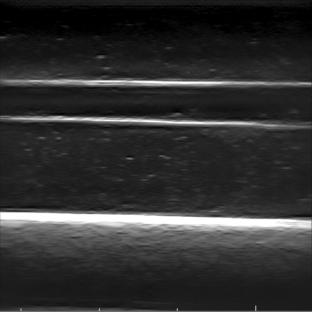vessel: (4, 78, 308, 128)
